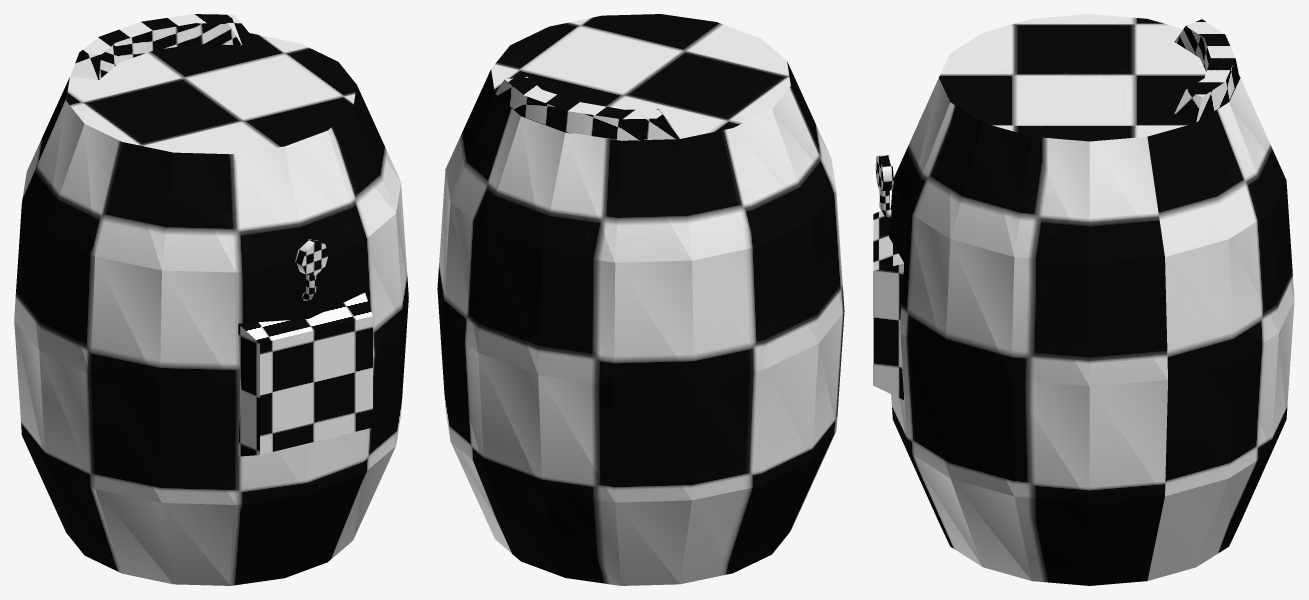
File: barrel_02-2.FBX
3 renders of one model, left to right at view 1: azimuth 30°, elevation 25°; view 2: azimuth 150°, elevation 25°; view 3: azimuth 270°, elevation 25°, orthographic. The views are drawn at different scales.
Parts seen in each view (by area): view 1: Line002, Box001, Box003, Cylinder002; view 2: Line002, Box003; view 3: Line002, Box001, Box003, Cylinder002.
Part boxes in pixels (<box>): Line002: <box>14,33,408,585</box>; Box001: <box>238,293,372,456</box>; Box003: <box>70,14,248,79</box>; Cylinder002: <box>295,239,328,275</box>; Line002: <box>437,14,844,585</box>; Box003: <box>495,77,679,140</box>; Line002: <box>889,14,1294,585</box>; Box001: <box>873,206,903,399</box>; Box003: <box>1174,19,1239,122</box>; Cylinder002: <box>875,155,893,190</box>.
Size of the model in its own units: 54.32 by 67.87 by 55.83.
Materials: 1 (1 with a texture image).
